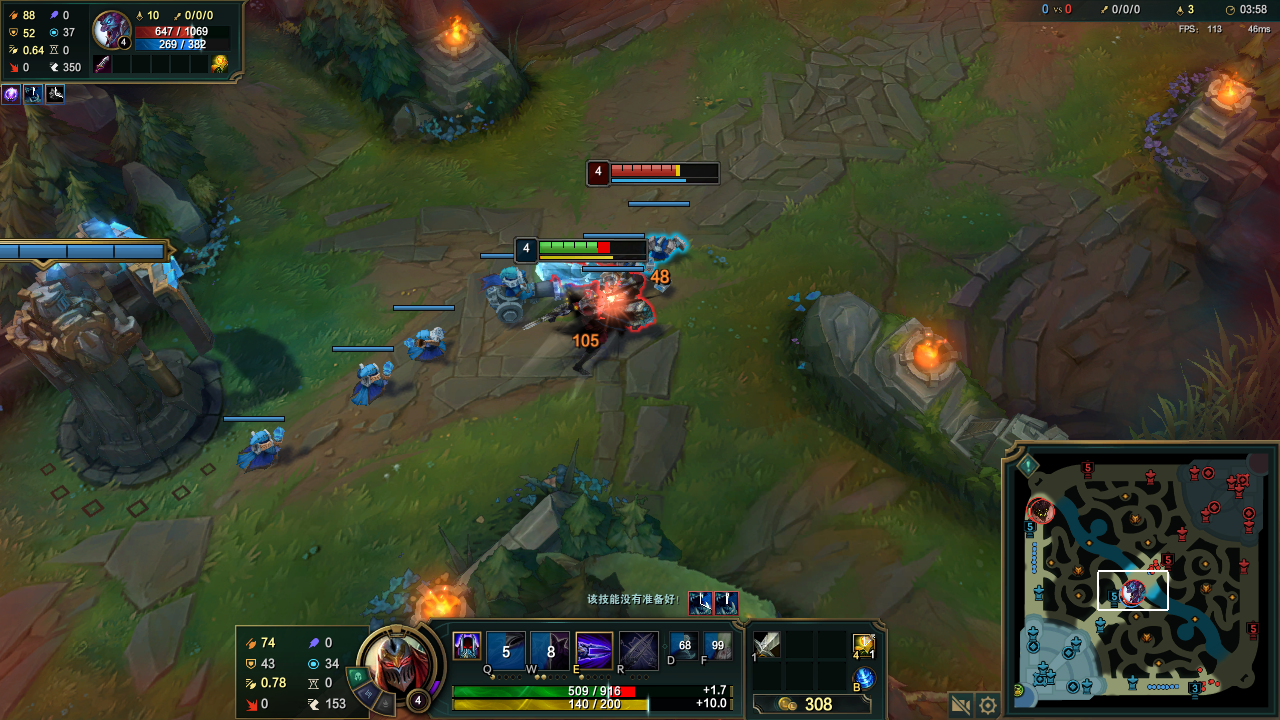DFYX: (611, 164, 718, 182)
WFXB: (476, 258, 551, 338), (341, 361, 412, 406), (228, 426, 294, 464), (408, 324, 456, 369)
